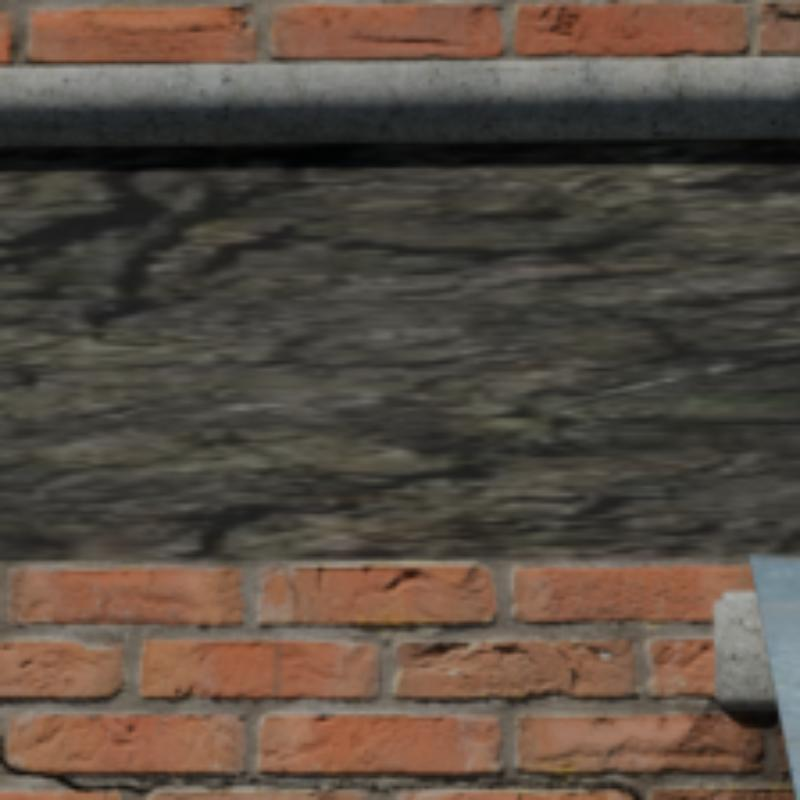pothole: (434, 781, 638, 799), (2, 759, 77, 788), (77, 785, 155, 791), (168, 781, 281, 784), (313, 788, 413, 791), (281, 784, 313, 788)
